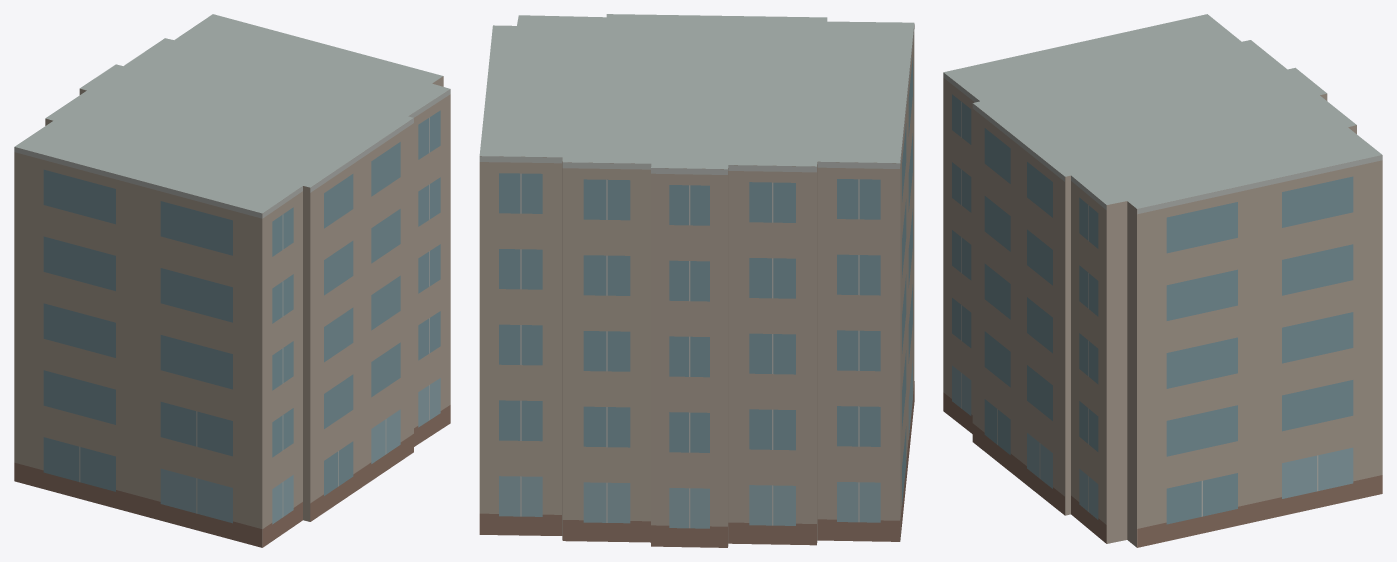
File: survey-upis-32836548.glb
3 renders of one model, left to right at view 1: azimuth 30°, elevation 25°; view 2: azimuth 150°, elevation 25°; view 3: azimuth 270°, elevation 25°, orthographic. The views are drawn at different scales.
Parts seen in each view (by area): view 1: survey-upis-32836548.tmp; view 2: survey-upis-32836548.tmp; view 3: survey-upis-32836548.tmp.
Boxes of the visible parts, x1,y1,x2,y2 form: survey-upis-32836548.tmp: (14, 14, 450, 547); survey-upis-32836548.tmp: (479, 14, 914, 547); survey-upis-32836548.tmp: (943, 14, 1382, 547).
Size of the model in its own units: 19.26 by 15.6 by 18.34.
